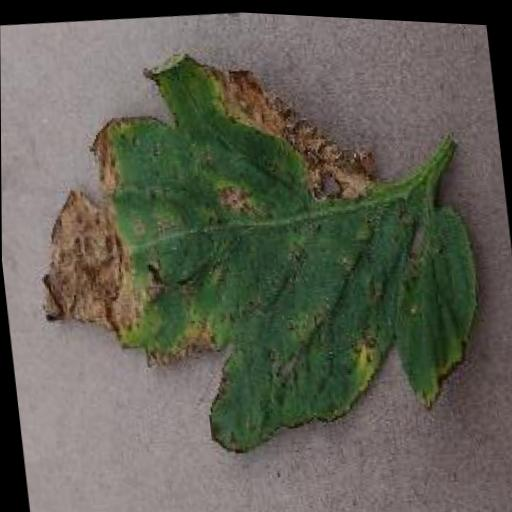Bacterial Spot: (6, 16, 498, 481)
